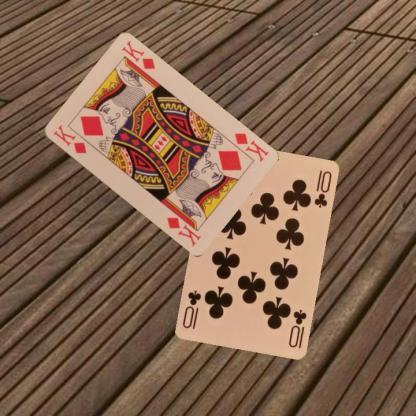10c: (285, 306, 308, 349)
Kd: (232, 130, 270, 164), (50, 122, 88, 155)
